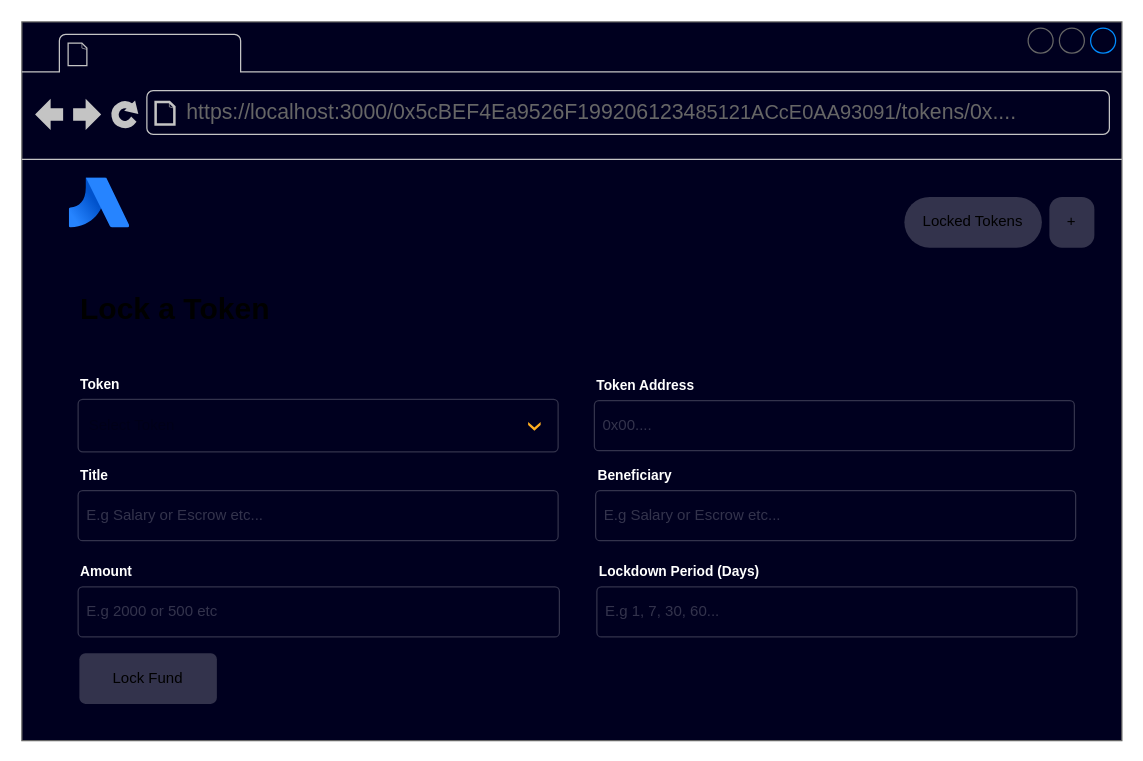
The diagram is 1143 pixels wide and 761 high, and some of its shapes have lost their labels. The shapes that lost their labels are listed below. From the top down, each one's centre as x and y in pixels, then its label:
(x=165, y=52): Token Details
(x=99, y=203): Locker Space
